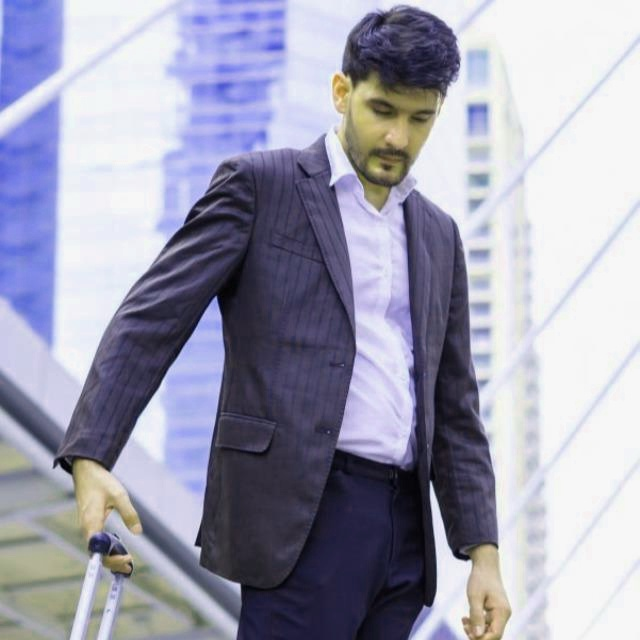Sin_Casco_Mascarrilla: (334, 5, 460, 187)
Sin_Chaleco: (223, 154, 469, 482)
